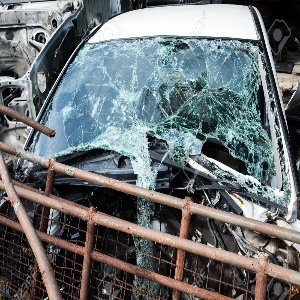front_windshield_glass: (70, 41, 267, 155)
